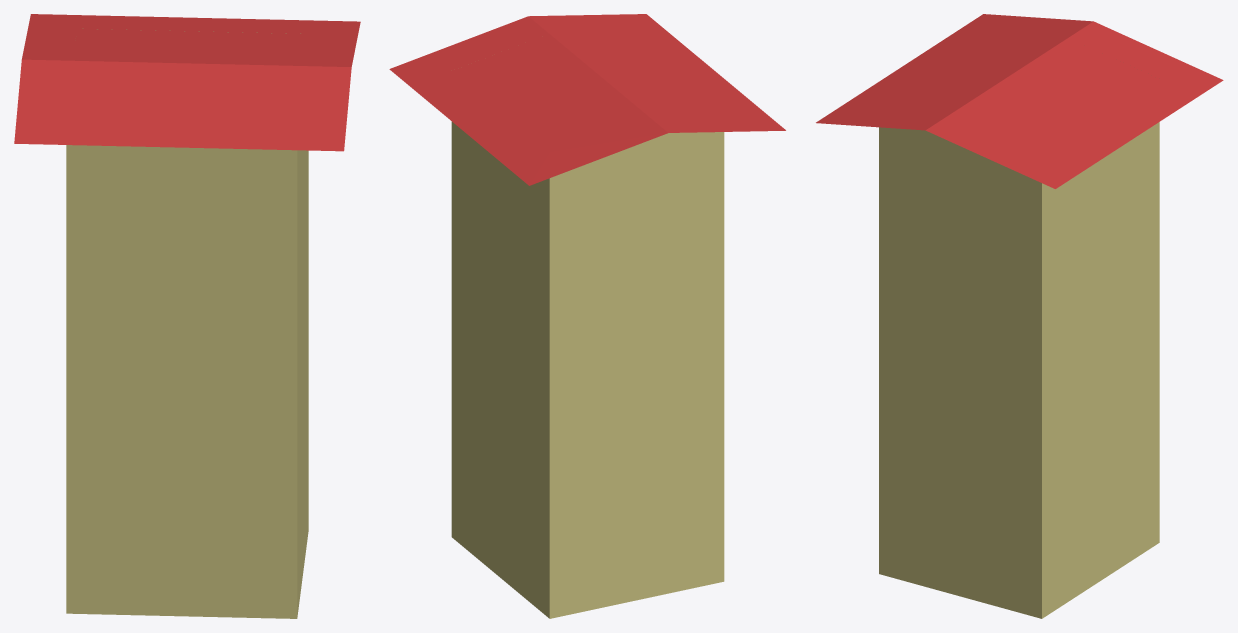
3 renders of one model, left to right at view 1: azimuth 30°, elevation 25°; view 2: azimuth 150°, elevation 25°; view 3: azimuth 270°, elevation 25°, orthographic. The views are drawn at different scales.
Parts seen in each view (by area): view 1: group_5, group_3, group_4; view 2: group_5, group_3, group_4; view 3: group_5, group_3, group_4.
Boxes of the visible parts, x1=… form: group_5: x1=66, y1=28, x2=308, y2=618; group_3: x1=14, y1=28, x2=351, y2=151; group_4: x1=22, y1=14, x2=360, y2=66; group_5: x1=451, y1=121, x2=724, y2=618; group_3: x1=452, y1=14, x2=785, y2=152; group_4: x1=389, y1=16, x2=667, y2=185; group_5: x1=879, y1=122, x2=1159, y2=618; group_3: x1=816, y1=14, x2=1159, y2=155; group_4: x1=925, y1=21, x2=1223, y2=188.
Size of the model in its own units: 4.48 by 4.41 by 5.72.
